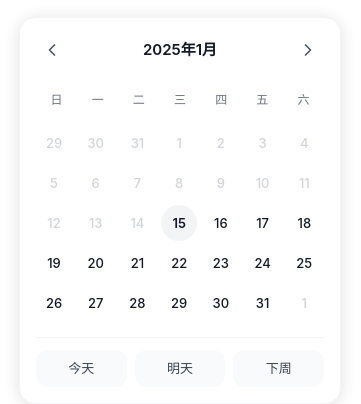
DateDropdown › month navigation › navigates to previous month when clicking previous button
The width and height of the screenshot is (361, 404).
(page scrolled)
Click the button named "上个月". click: (52, 50)
box: [36,34,68,66]
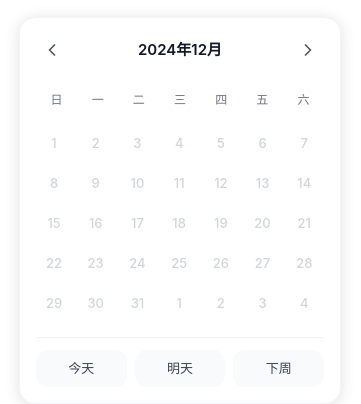
Result: the heading "2024年12月" is shown at [138,38,222,62]
